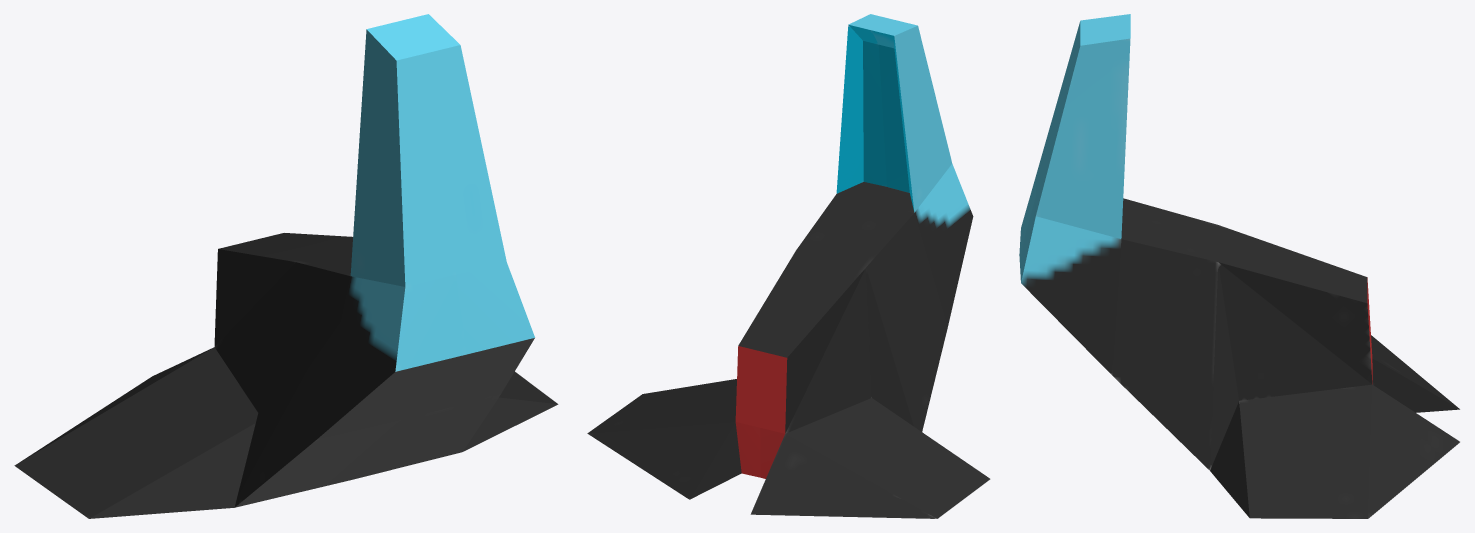
The model's file is enemy.obj.
3 views of the same model, side by side, from view 1: azimuth 30°, elevation 25°; view 2: azimuth 150°, elevation 25°; view 3: azimuth 270°, elevation 25° (orthographic). The views are drawn at different scales.
Visible parts, largest first — view 1: Box003_Standardmaterial_0; view 2: Box003_Standardmaterial_0; view 3: Box003_Standardmaterial_0.
Boxes of the visible parts, x1,y1,x2,y2 form: Box003_Standardmaterial_0: (14,14,558,518); Box003_Standardmaterial_0: (587,14,990,518); Box003_Standardmaterial_0: (1019,14,1459,518).
Size of the model in its own units: 2 by 2 by 2.
